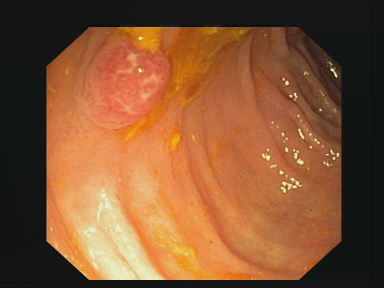polyp: (78, 31, 173, 131)
